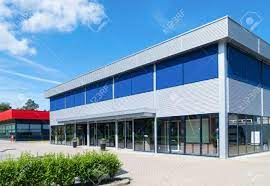Building House: (49, 32, 270, 152), (3, 105, 52, 144)
